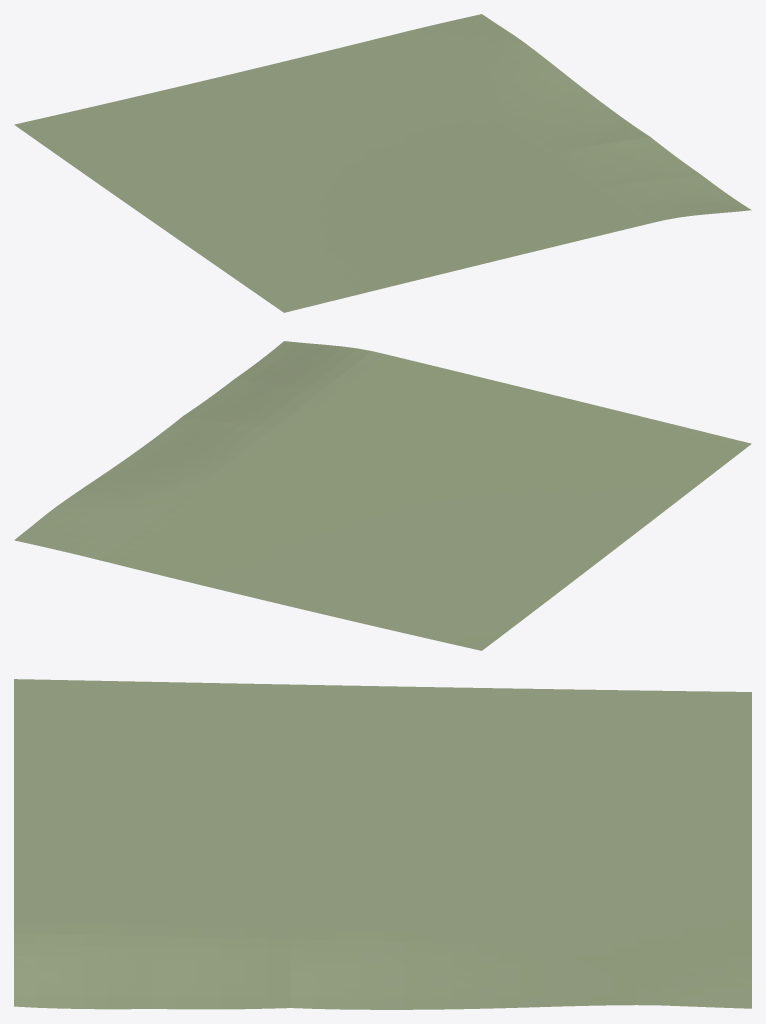
Rendered from gardens-1-7.glb.
3 views of the same model, one above another, from view 1: azimuth 30°, elevation 25°; view 2: azimuth 150°, elevation 25°; view 3: azimuth 270°, elevation 25° (orthographic). The views are drawn at different scales.
Parts seen in each view (by area): view 1: gardens-1-7; view 2: gardens-1-7; view 3: gardens-1-7.
Boxes of the visible parts, x1,y1,x2,y2 form: gardens-1-7: (14,14,751,312); gardens-1-7: (14,341,751,650); gardens-1-7: (14,679,751,1009).
Bounding box in the file's own units: 256 × 7.4 × 256.
